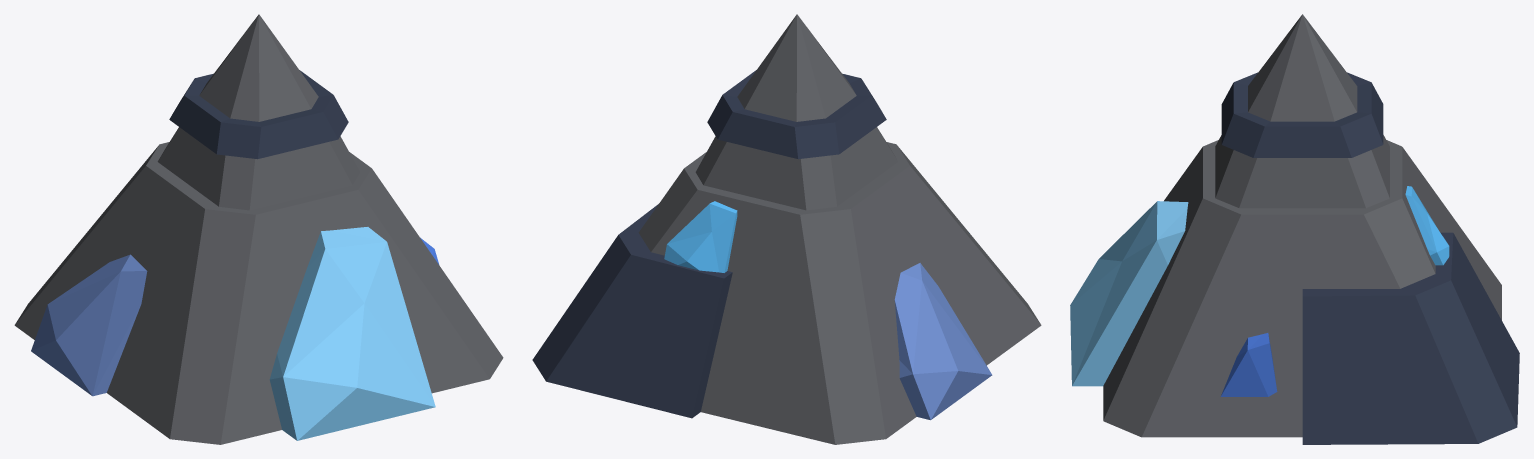
Rendered from SP_Plant01.fbx.
The picture shows the model from 3 angles, left to right: view 1: azimuth 30°, elevation 25°; view 2: azimuth 150°, elevation 25°; view 3: azimuth 270°, elevation 25°; orthographic projection. The views are drawn at different scales.
Visible parts, largest first — view 1: SP_Plant01; view 2: SP_Plant01; view 3: SP_Plant01.
Part boxes in pixels (x1,y1,x2,y2): SP_Plant01: (14,14,503,444); SP_Plant01: (532,14,1041,444); SP_Plant01: (1070,14,1519,444).
Size of the model in its own units: 115 by 98.8 by 119.
1 material, 1 textured.
